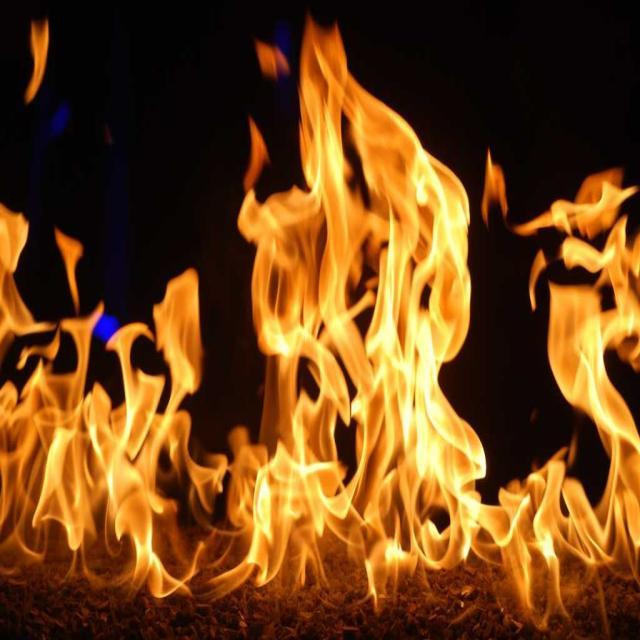Fire: (260, 194, 462, 590), (2, 411, 176, 568), (560, 205, 640, 354)
